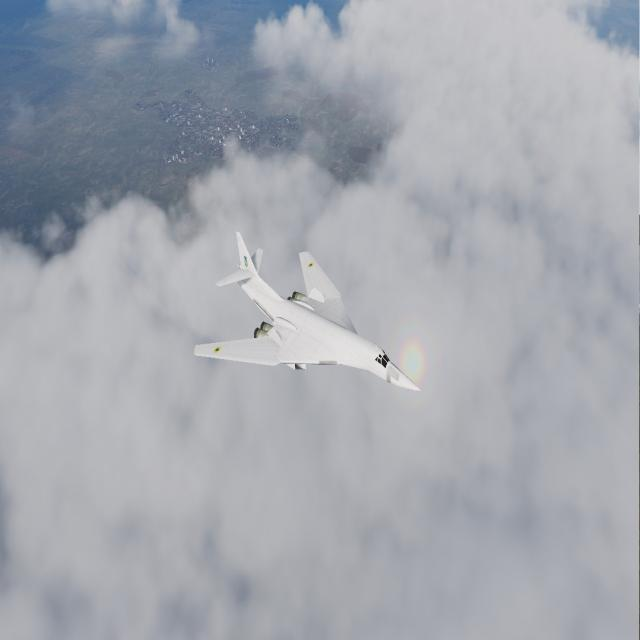Tu160: (188, 208, 438, 420)
